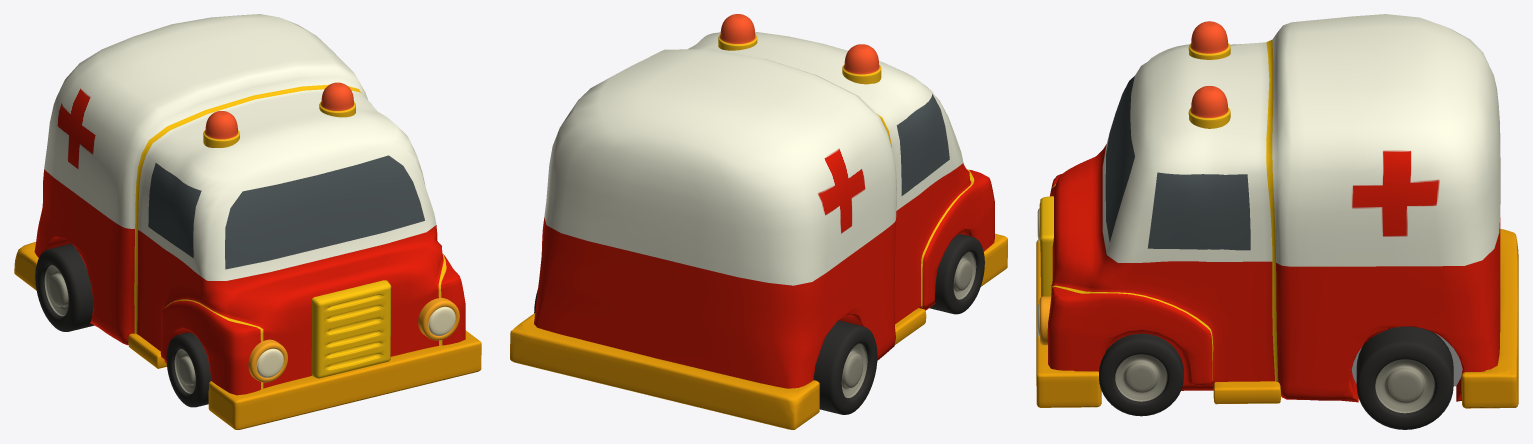
The model's file is ambulance@idle.fbx.
3 views of the same model, side by side, from view 1: azimuth 30°, elevation 25°; view 2: azimuth 150°, elevation 25°; view 3: azimuth 270°, elevation 25° (orthographic). The views are drawn at different scales.
Visible parts, largest first — view 1: polySurface225, polySurface237, polySurface238; view 2: polySurface225, polySurface237, polySurface238; view 3: polySurface225, polySurface239, polySurface240.
Part boxes in pixels (bbox=[...]): polySurface225: bbox=[14, 14, 481, 429]; polySurface237: bbox=[35, 243, 94, 331]; polySurface238: bbox=[166, 332, 211, 407]; polySurface225: bbox=[510, 14, 1007, 429]; polySurface237: bbox=[813, 320, 877, 414]; polySurface238: bbox=[929, 234, 984, 314]; polySurface225: bbox=[1036, 14, 1518, 408]; polySurface239: bbox=[1356, 326, 1453, 429]; polySurface240: bbox=[1099, 333, 1183, 416].
Bounding box in the file's own units: 9.04 × 7.99 × 11.68.
